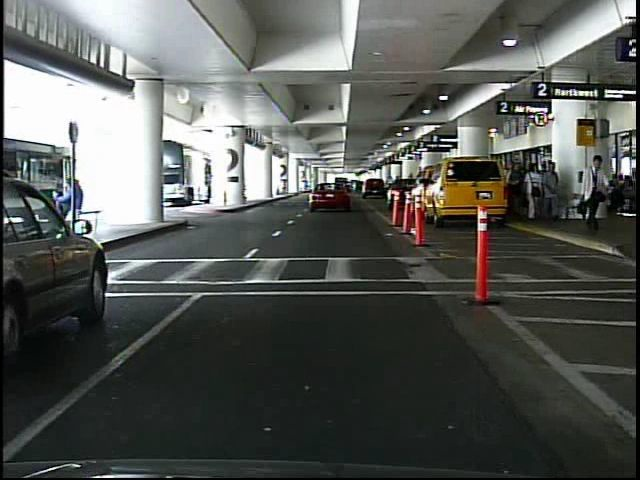person: (576, 154, 611, 233), (541, 160, 562, 221), (525, 162, 543, 224)
